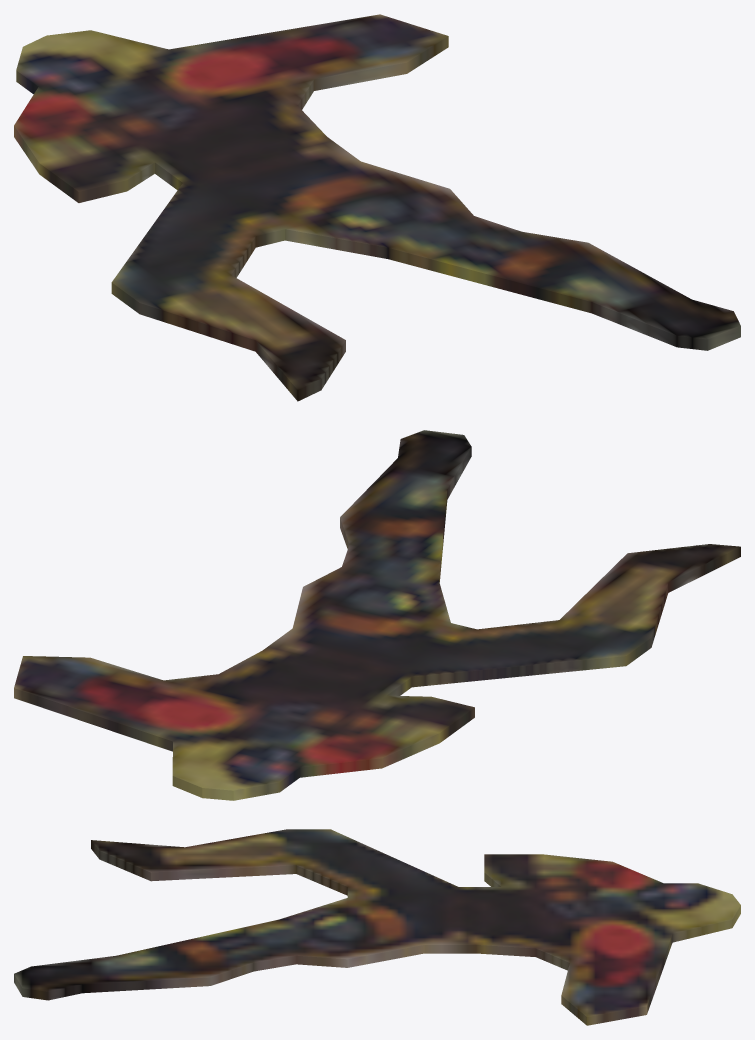
Rendered from Boxing.glb.
The picture shows the model from 3 angles, top to bottom: view 1: azimuth 30°, elevation 25°; view 2: azimuth 150°, elevation 25°; view 3: azimuth 270°, elevation 25°; orthographic projection. The views are drawn at different scales.
Parts seen in each view (by area): view 1: Boxing; view 2: Boxing; view 3: Boxing.
Part boxes in pixels (x1,y1,x2,y2): Boxing: (14,14,740,401); Boxing: (14,430,740,800); Boxing: (14,829,740,1025).
Bounding box in the file's own units: 0.2323 × 0.005 × 0.3797.
1 material, 1 textured.
